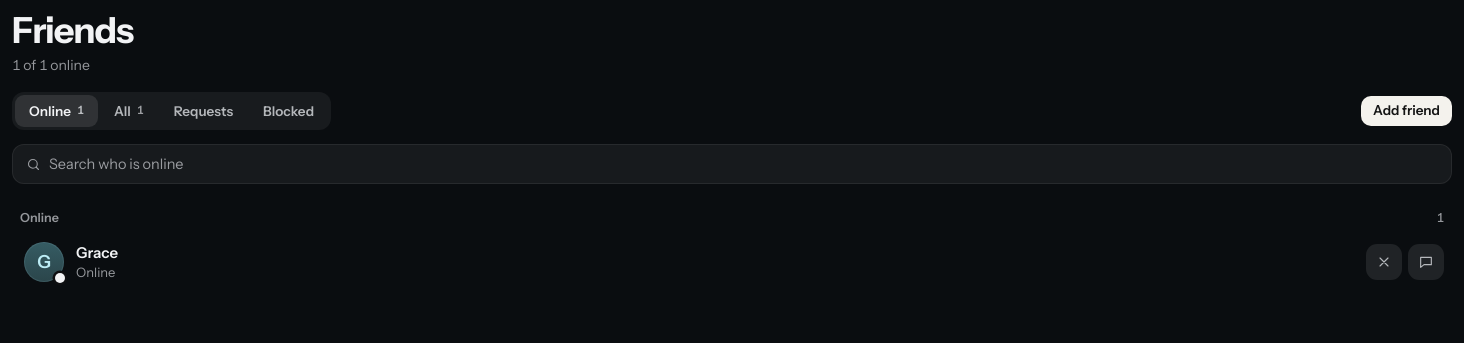
FriendsPage › labels friend search and shows inline feedback when opening a DM fails
The image size is (1464, 343).
Expected: the search field named "search friends" is shown, [49,144,1438,184]
What coordinates should you click on to do the following:
click the button named "message grace"
I would click on:
 (1426, 262)
Its box is [1408,244,1444,280].
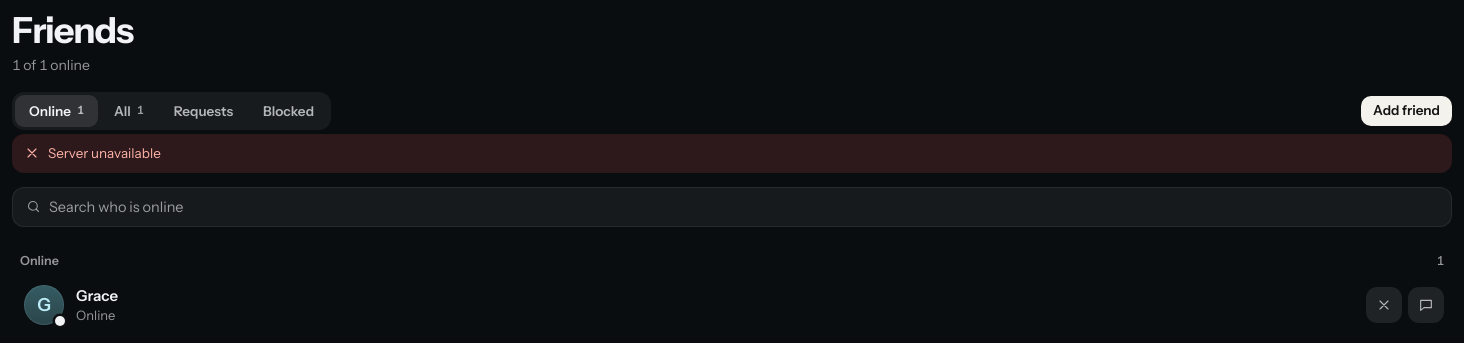
Result: the message reads "Server unavailable" at [48,145,161,161]
